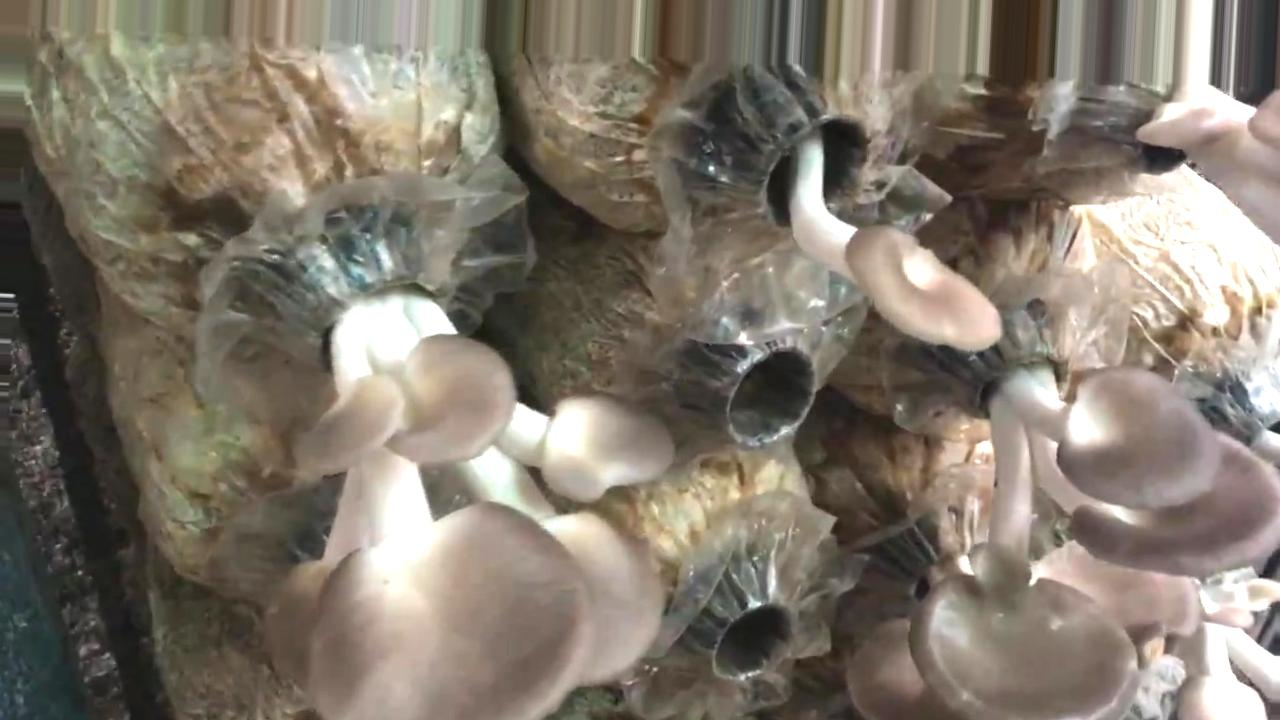nam: (270, 245, 675, 720), (910, 328, 1280, 720), (748, 85, 998, 350)
